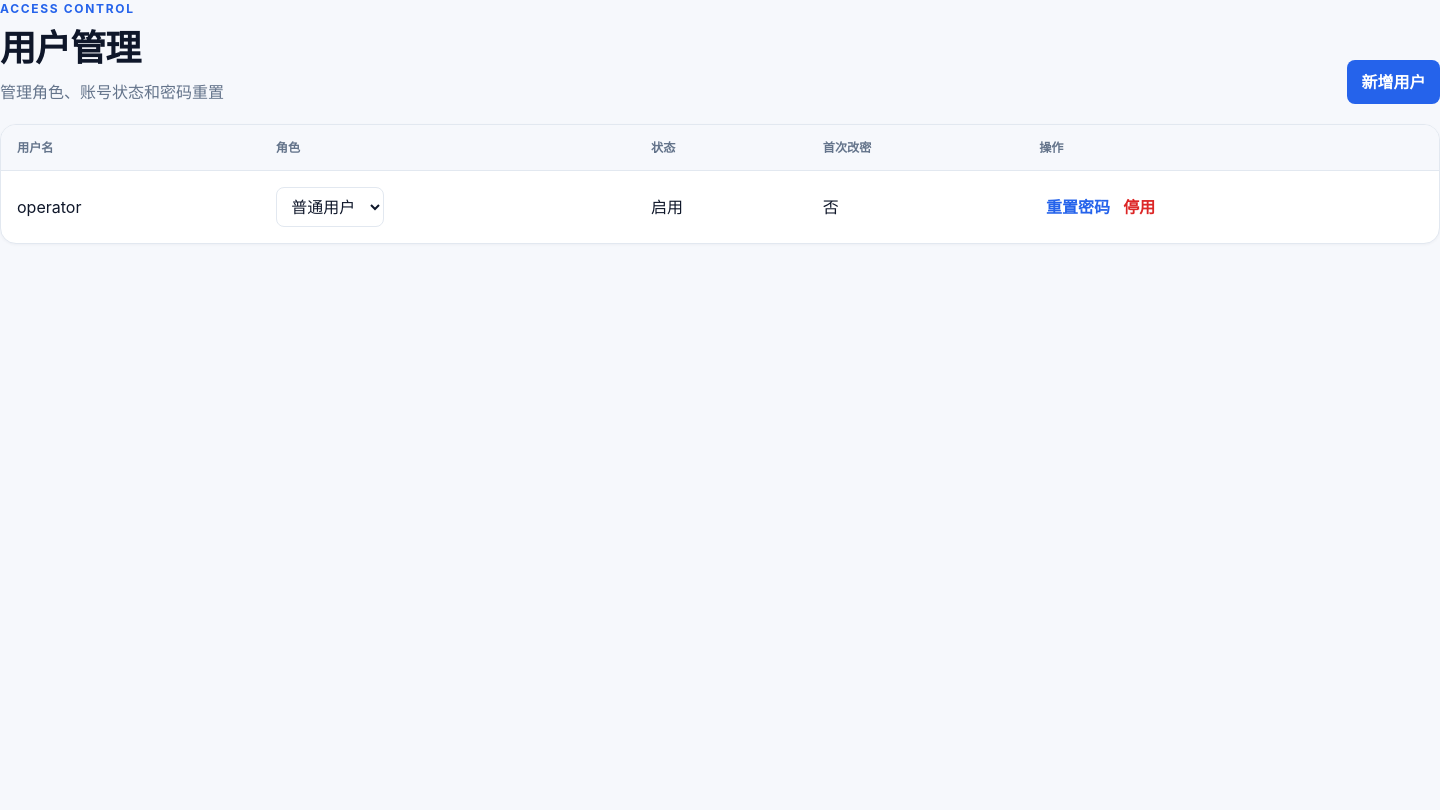
Test: announces password reset failure inside the confirmation dialog
The image size is (1440, 810).
Click the button with aria-label "重置operator的密码": [1078, 207] box [1039,185,1117,229]
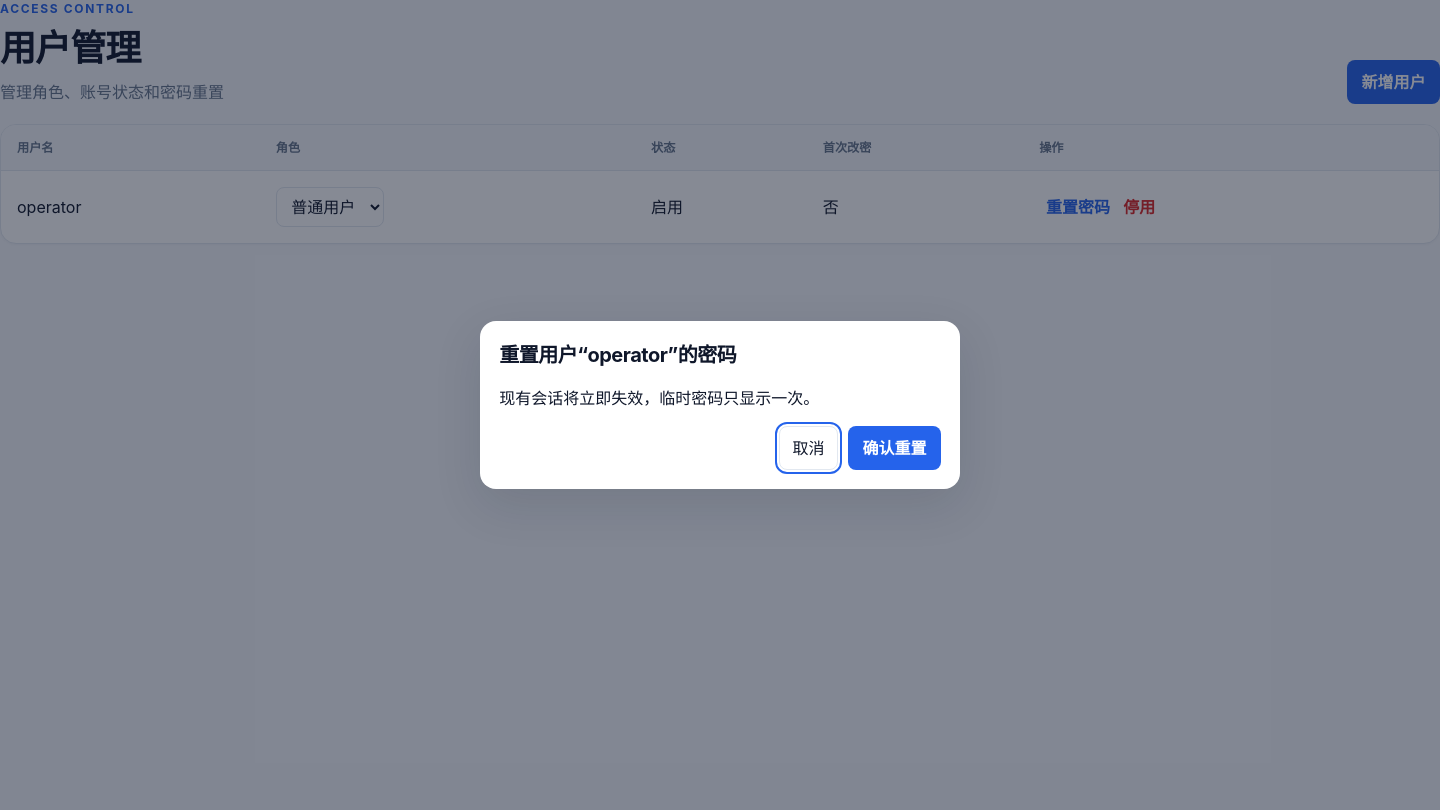
Click the button "确认重置": [894, 448] box [848,426,941,470]
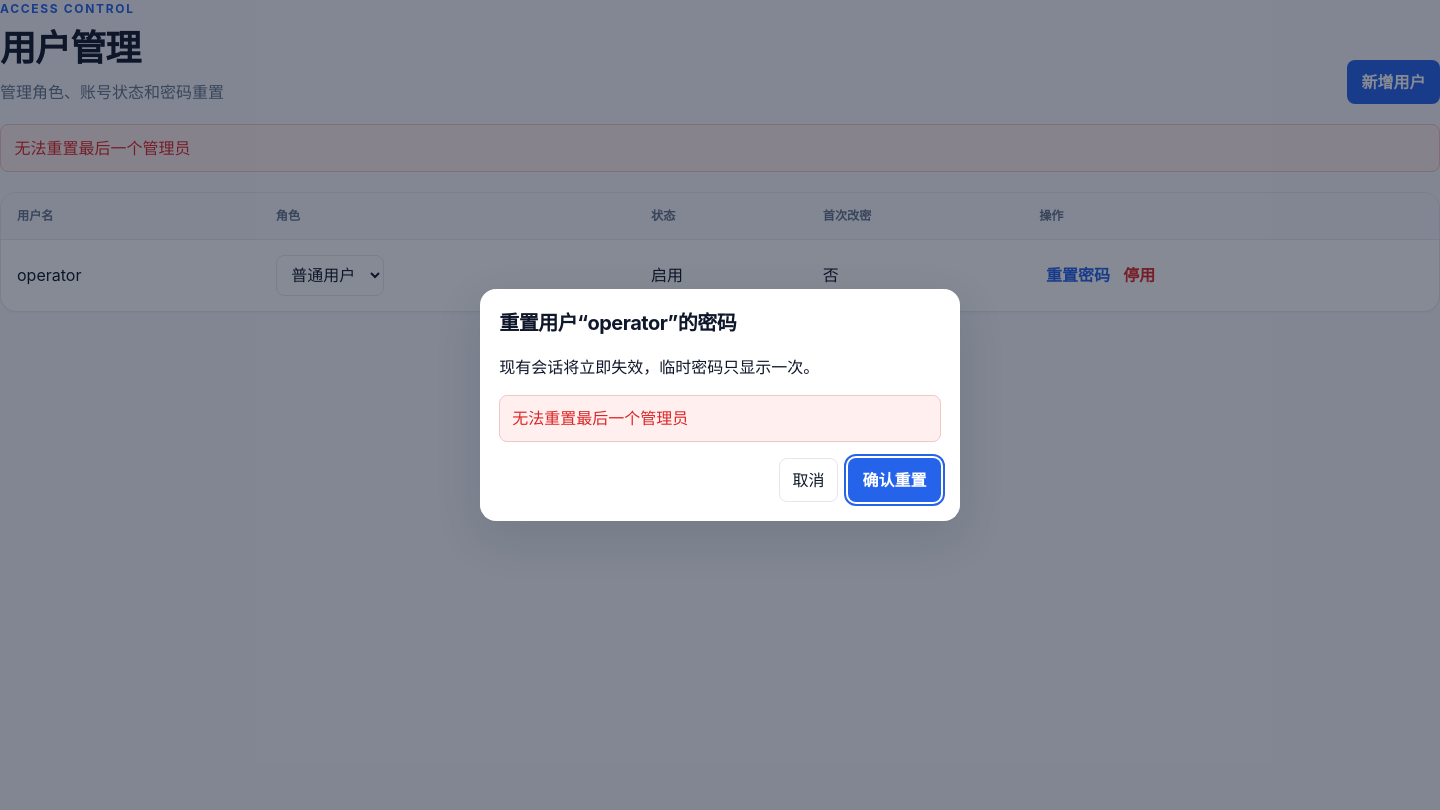
expect the message reads "无法重置最后一个管理员": met, box [512,408,688,428]
